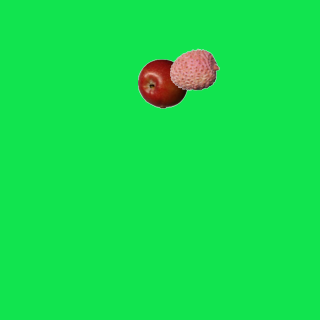Apple Braeburn: (137, 58, 187, 108)
Lychee: (169, 44, 219, 94)
